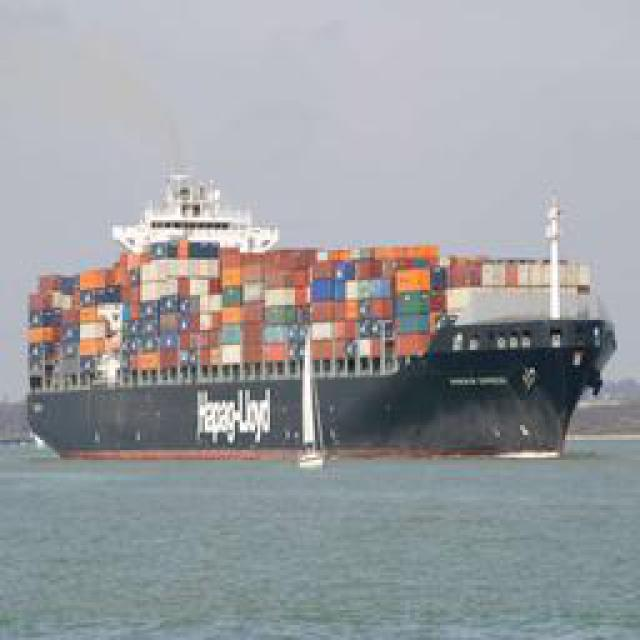Ship: (16, 161, 619, 456)
